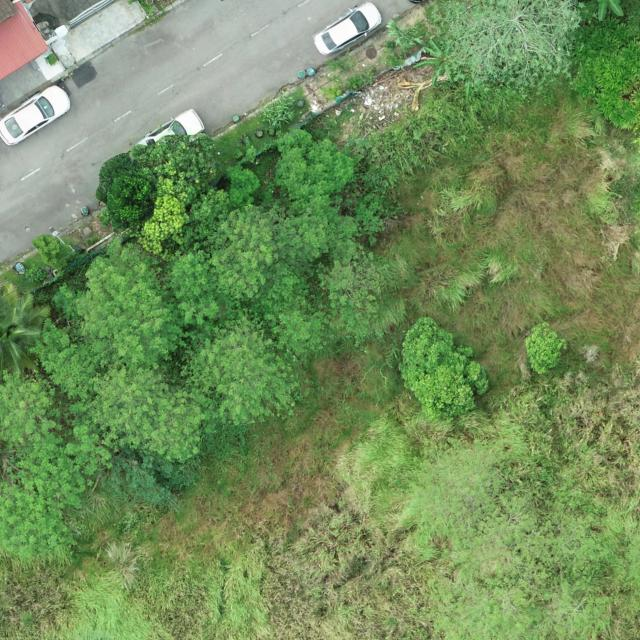Tree: (94, 132, 233, 259), (65, 362, 207, 476), (428, 0, 584, 99), (74, 233, 184, 370), (175, 307, 299, 426), (208, 201, 336, 300), (0, 437, 95, 562), (395, 314, 490, 422), (273, 127, 357, 218), (0, 282, 52, 378), (0, 367, 58, 449), (521, 321, 571, 377), (576, 0, 626, 22)
